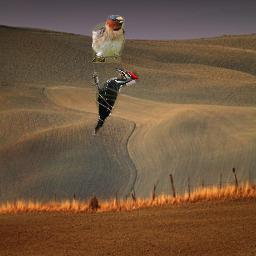Swallow: (91, 15, 126, 63)
Woodpecker: (92, 68, 139, 135)
